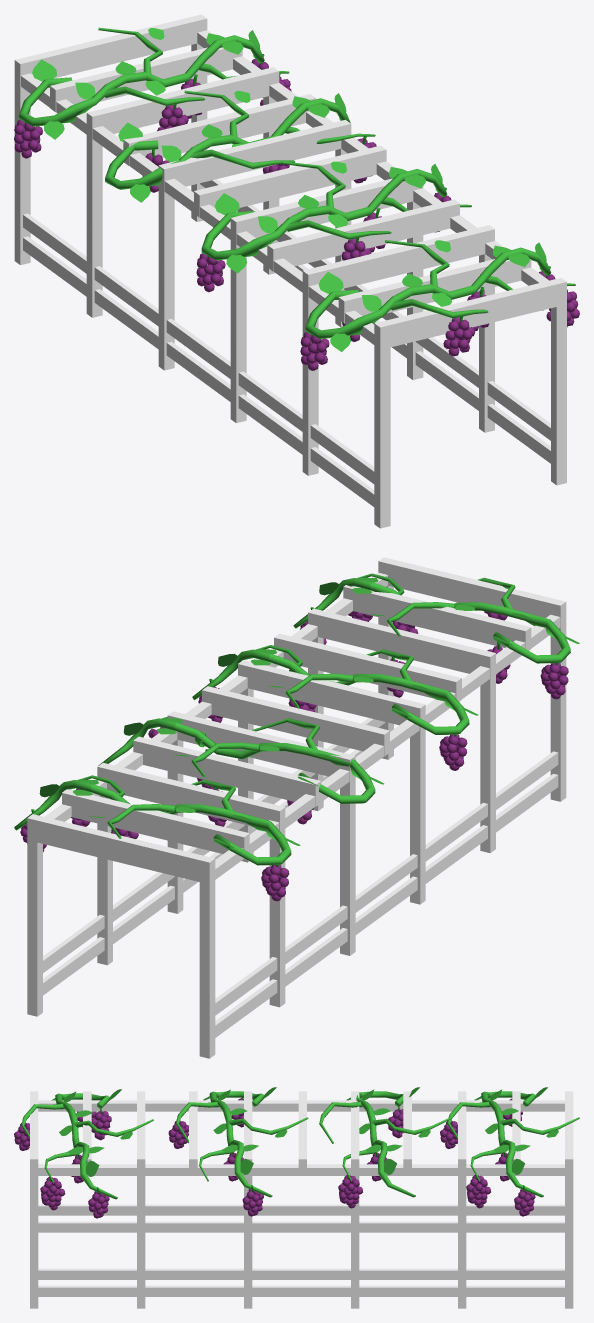
Rendered from putao.fbx.
3 views of the same model, one above another, from view 1: azimuth 30°, elevation 25°; view 2: azimuth 150°, elevation 25°; view 3: azimuth 270°, elevation 25° (orthographic). The views are drawn at different scales.
Visible parts, largest first — view 1: putaojia; view 2: putaojia; view 3: putaojia.
Boxes of the visible parts, x1,y1,x2,y2 form: putaojia: (14,14,579,528); putaojia: (14,557,579,1058); putaojia: (14,1087,579,1308).
Bounding box in the file's own units: 428 × 326 × 1058.
